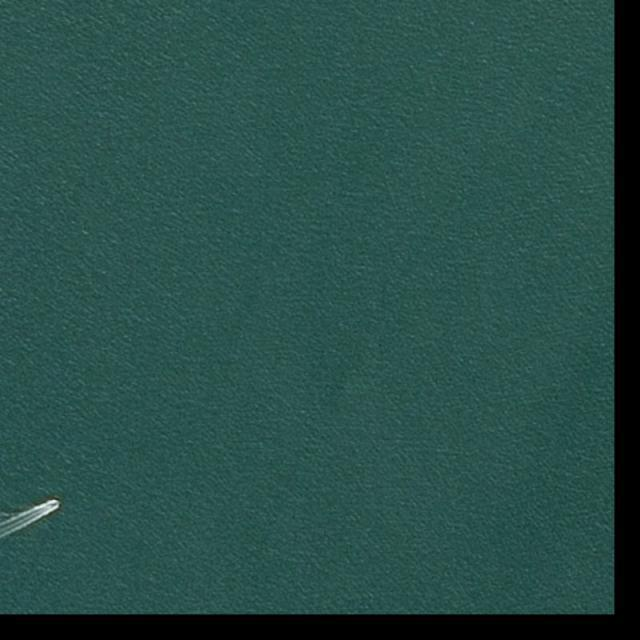ship: (51, 500, 60, 508)
